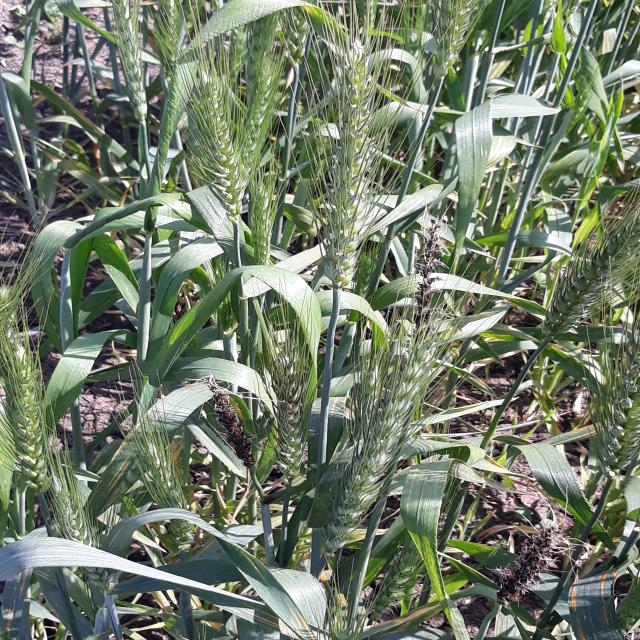loose_charred: (484, 509, 587, 614), (187, 376, 273, 473), (392, 221, 450, 336)
yellow_rust: (33, 141, 143, 206), (200, 588, 316, 640), (563, 566, 629, 640), (29, 76, 111, 133), (188, 480, 253, 527), (0, 568, 39, 640), (555, 417, 601, 452), (314, 558, 338, 585), (190, 540, 224, 558)
